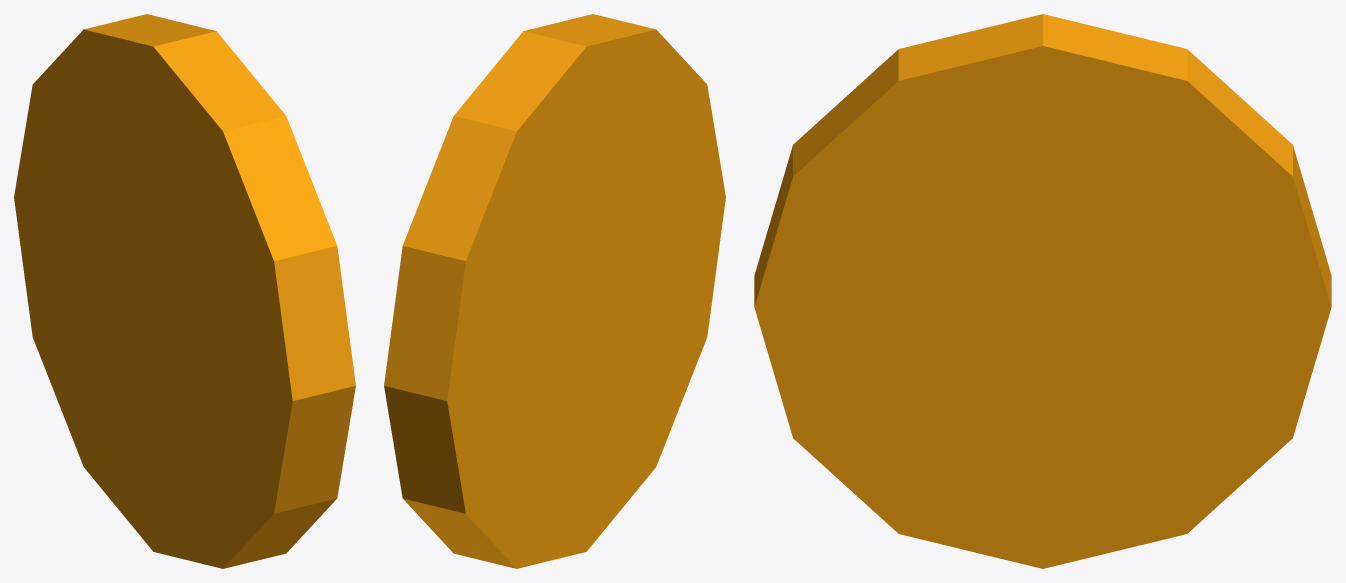
Rendered from Bar7.gltf.
3 views of the same model, side by side, from view 1: azimuth 30°, elevation 25°; view 2: azimuth 150°, elevation 25°; view 3: azimuth 270°, elevation 25° (orthographic). The views are drawn at different scales.
Parts seen in each view (by area): view 1: Cylinder.038; view 2: Cylinder.038; view 3: Cylinder.038.
Boxes of the visible parts, x1=… form: Cylinder.038: x1=14, y1=14, x2=355, y2=568; Cylinder.038: x1=384, y1=14, x2=725, y2=568; Cylinder.038: x1=754, y1=14, x2=1331, y2=568.
Bounding box in the file's own units: 0.00057 × 0.00435 × 0.00435.
